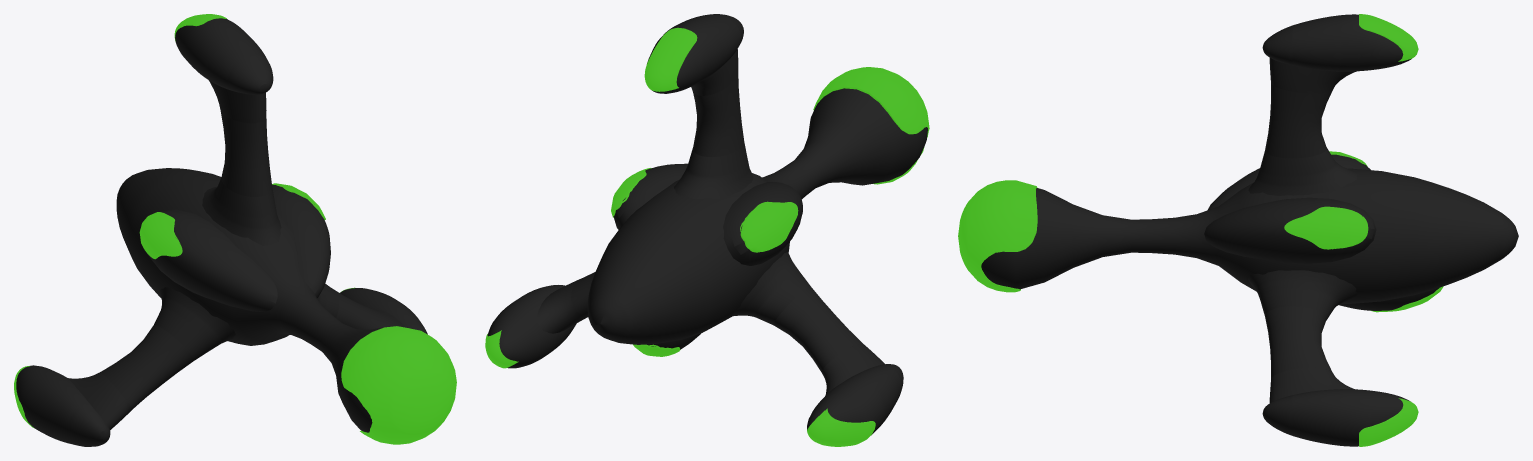
Rendered from scout.glb.
3 views of the same model, side by side, from view 1: azimuth 30°, elevation 25°; view 2: azimuth 150°, elevation 25°; view 3: azimuth 270°, elevation 25° (orthographic). The views are drawn at different scales.
Parts seen in each view (by area): view 1: scout_view; view 2: scout_view; view 3: scout_view.
Part boxes in pixels (bbox=[...]): scout_view: bbox=[14, 14, 456, 446]; scout_view: bbox=[485, 14, 929, 446]; scout_view: bbox=[958, 14, 1518, 446].
Bounding box in the file's own units: 2961 × 2777 × 4003.
